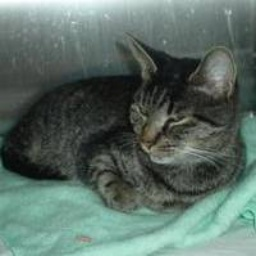cat: (10, 28, 252, 223)
